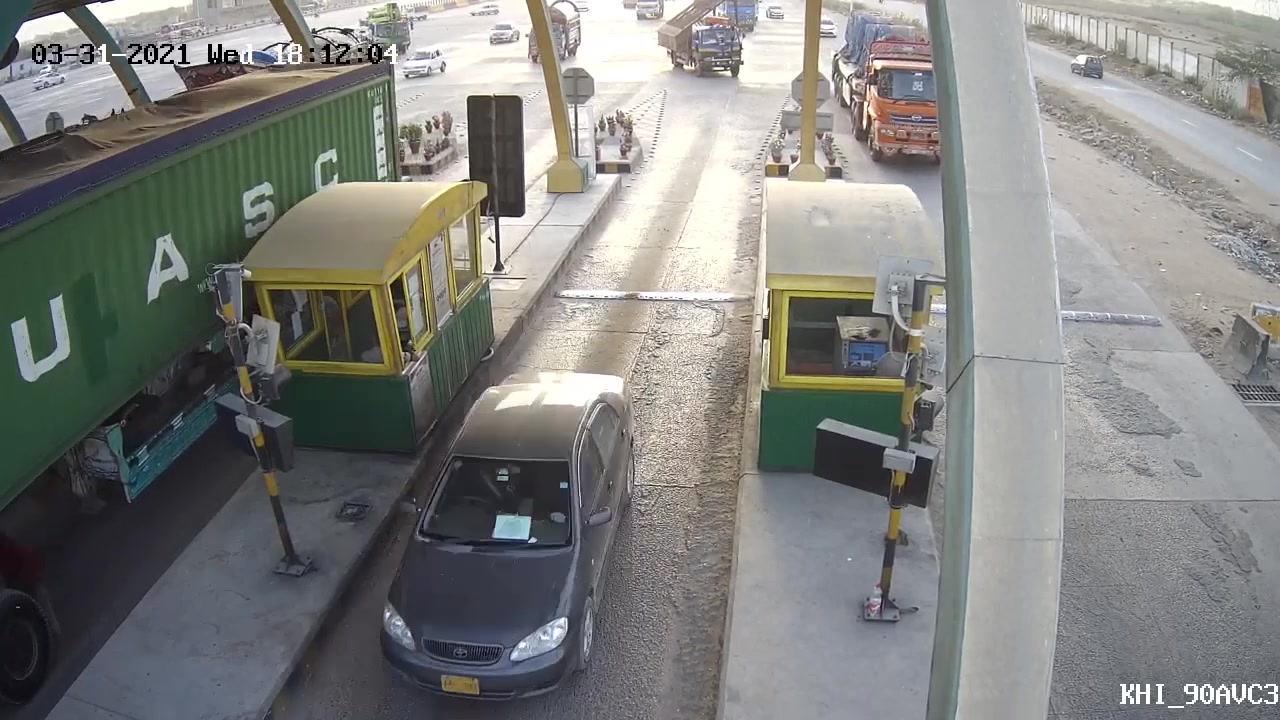F1: (369, 362, 652, 710)
